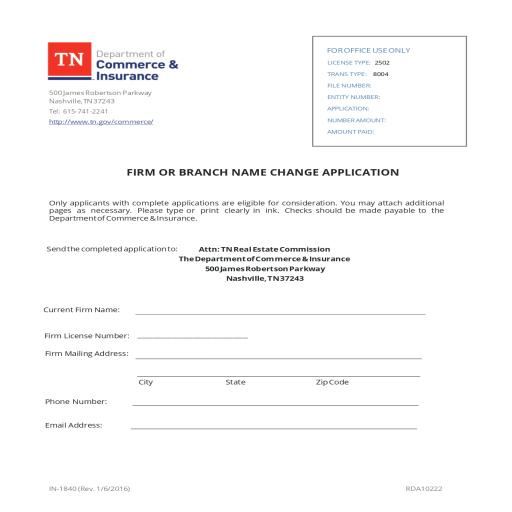email: (42, 347, 130, 361), (42, 418, 108, 431)
free_text: (42, 304, 121, 315)
number: (42, 394, 110, 410)
